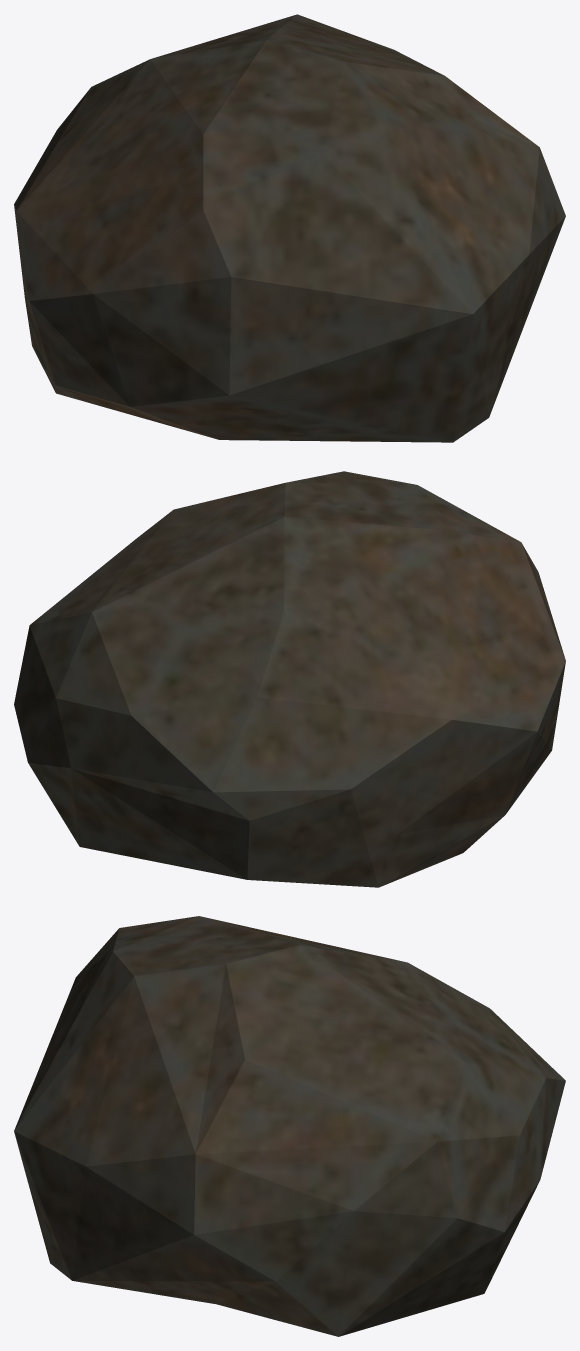
Rendered from piedra_stone_11.glb.
3 renders of one model, top to bottom at view 1: azimuth 30°, elevation 25°; view 2: azimuth 150°, elevation 25°; view 3: azimuth 270°, elevation 25°, orthographic. The views are drawn at different scales.
Parts seen in each view (by area): view 1: Stone_11; view 2: Stone_11; view 3: Stone_11.
Part boxes in pixels (x1,y1,x2,y2): Stone_11: [14, 14, 565, 442]; Stone_11: [14, 471, 565, 887]; Stone_11: [14, 916, 565, 1336].
Bounding box in the file's own units: 0.9816 × 0.6123 × 1.
1 material, 1 textured.
